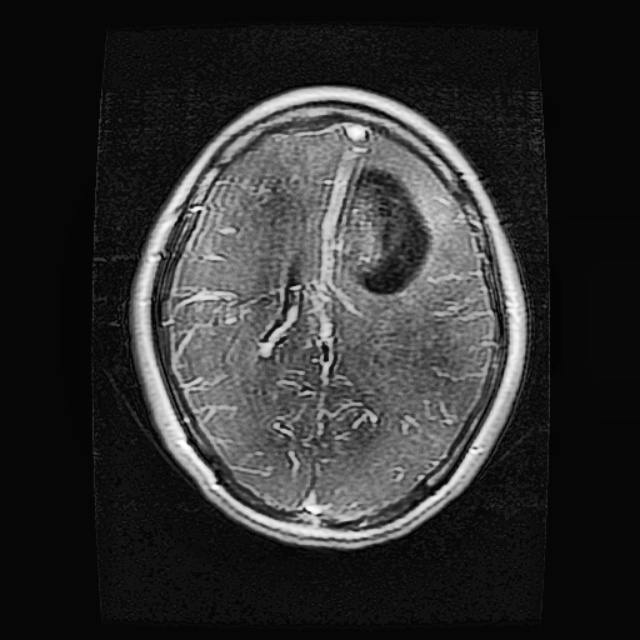Glioma: (332, 165, 434, 298)
